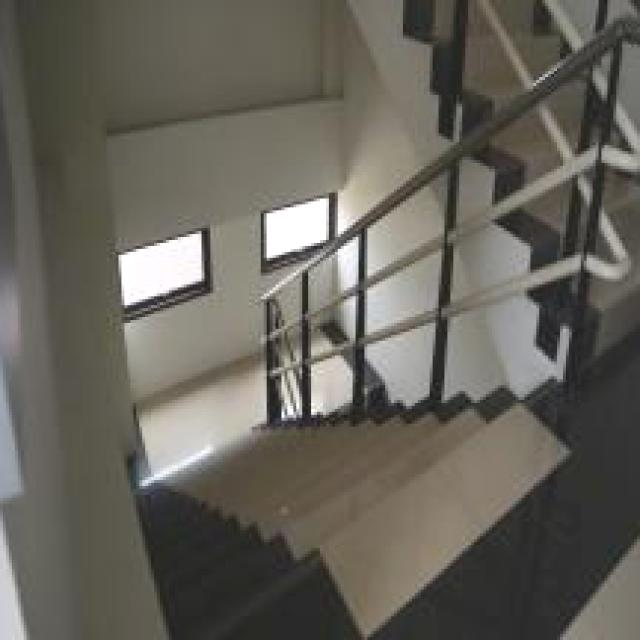downstair: (194, 407, 567, 640)
